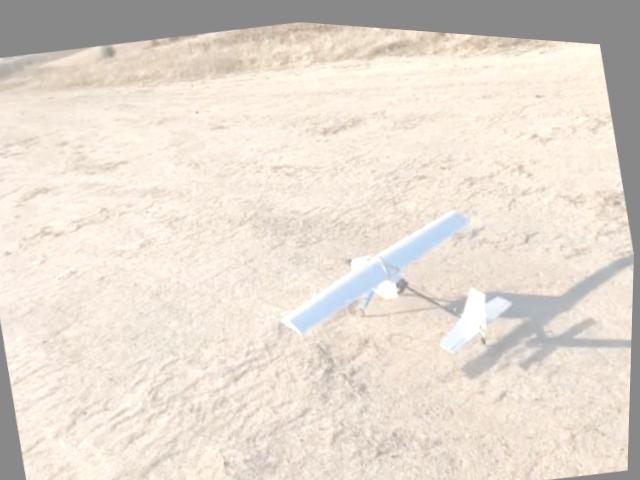uav: (266, 186, 524, 383)
